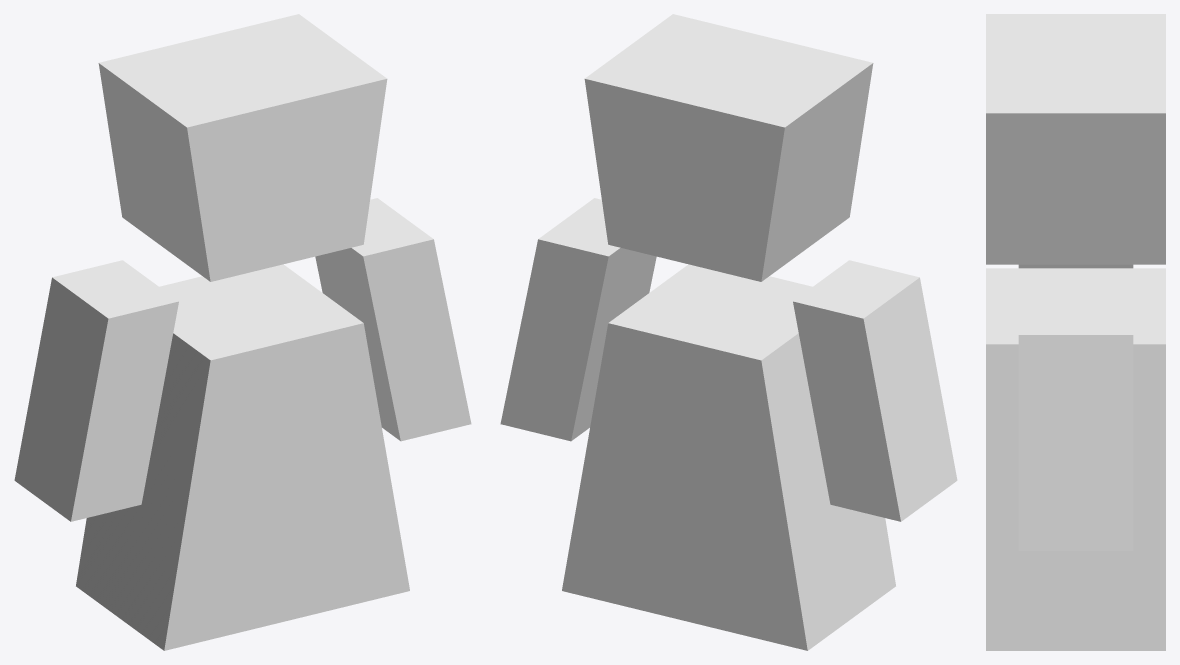
File: player.obj
3 views of the same model, side by side, from view 1: azimuth 30°, elevation 25°; view 2: azimuth 150°, elevation 25°; view 3: azimuth 270°, elevation 25° (orthographic).
Parts seen in each view (by area): view 1: armL; view 2: armL; view 3: armL.
Part boxes in pixels (<box>): armL: <box>14,14,471,650</box>; armL: <box>500,14,957,650</box>; armL: <box>986,14,1165,650</box>.
Size of the model in its own units: 1.19 by 1.47 by 0.4545.
1 material, 1 textured.
